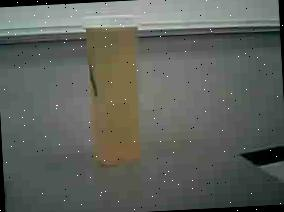Bottle A: (79, 11, 151, 174)
